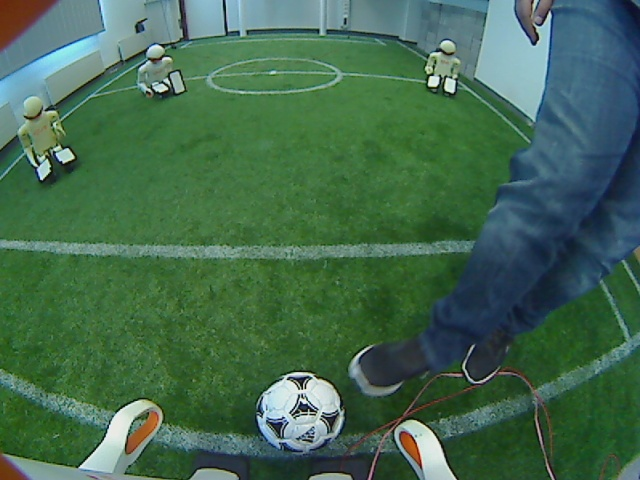ball: (252, 369, 346, 459)
robot: (15, 95, 82, 184), (133, 41, 188, 102), (422, 34, 463, 98)
